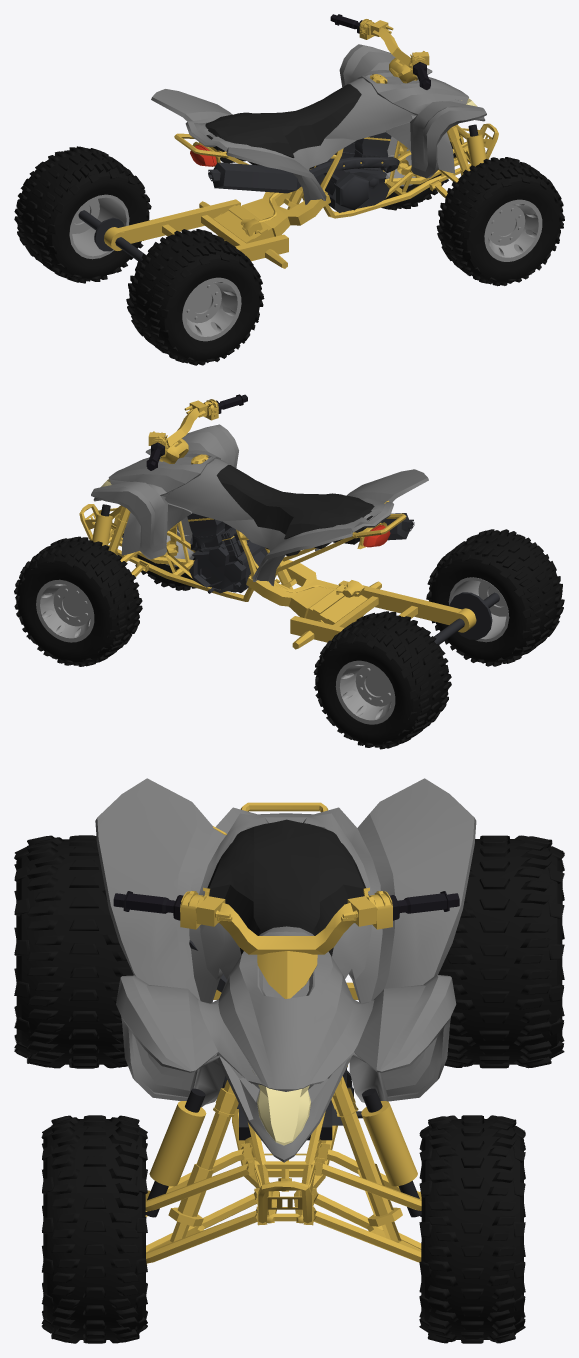
File: quad_atv450w.glb
3 renders of one model, top to bottom at view 1: azimuth 30°, elevation 25°; view 2: azimuth 150°, elevation 25°; view 3: azimuth 270°, elevation 25°, orthographic. The views are drawn at different scales.
Parts seen in each view (by area): view 1: Paint, Tire5, Frame, Tire4, Tire8, Engine, Seat, Tire3, Tire7, swingarmBeam1, Rim2, Rim4 (+6 smaller); view 2: Paint, Tire3, Frame, Tire6, Tire2, Seat, Tire5, Engine, Tire1, swingarmBeam1, Rim3, Rim1 (+7 smaller); view 3: Paint, Tire5, Tire7, Tire1, Frame, Tire3, Seat, bars_Frame, shockSpring1, Tire6, Tire4, Tire2 (+5 smaller).
Part boxes in pixels (x1,y1,x2,y2): Paint: [151, 44, 486, 204]; Tire5: [14, 146, 151, 283]; Frame: [174, 74, 498, 268]; Tire4: [130, 231, 264, 365]; Tire8: [439, 158, 564, 286]; Engine: [208, 132, 399, 212]; Seat: [205, 84, 361, 169]; Tire3: [126, 229, 263, 365]; Tire7: [436, 157, 564, 285]; swingarmBeam1: [104, 199, 288, 261]; Rim2: [182, 277, 241, 341]; Rim4: [484, 199, 542, 261]; Paint: [91, 424, 428, 586]; Tire3: [426, 529, 564, 666]; Frame: [79, 454, 406, 649]; Tire6: [313, 613, 447, 749]; Tire2: [14, 538, 139, 666]; Seat: [216, 465, 373, 556]; Tire5: [314, 611, 451, 749]; Engine: [187, 513, 414, 593]; Tire1: [14, 536, 142, 666]; swingarmBeam1: [290, 580, 476, 642]; Rim3: [335, 660, 395, 724]; Rim1: [36, 579, 94, 642]; Paint: [95, 778, 476, 1162]; Tire5: [438, 835, 564, 1068]; Tire7: [42, 1115, 147, 1343]; Tire1: [419, 1115, 525, 1343]; Frame: [145, 802, 421, 1265]; Tire3: [14, 835, 133, 1068]; Seat: [207, 819, 368, 956]; bars_Frame: [180, 887, 392, 1191]; shockSpring1: [149, 1101, 417, 1186]; Tire6: [457, 836, 564, 1067]; Tire4: [14, 846, 121, 1067]; Tire2: [429, 1116, 525, 1343].
Size of the model in its own units: 2.22 by 1.09 by 1.39.
